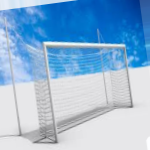goals: (24, 39, 134, 145)
